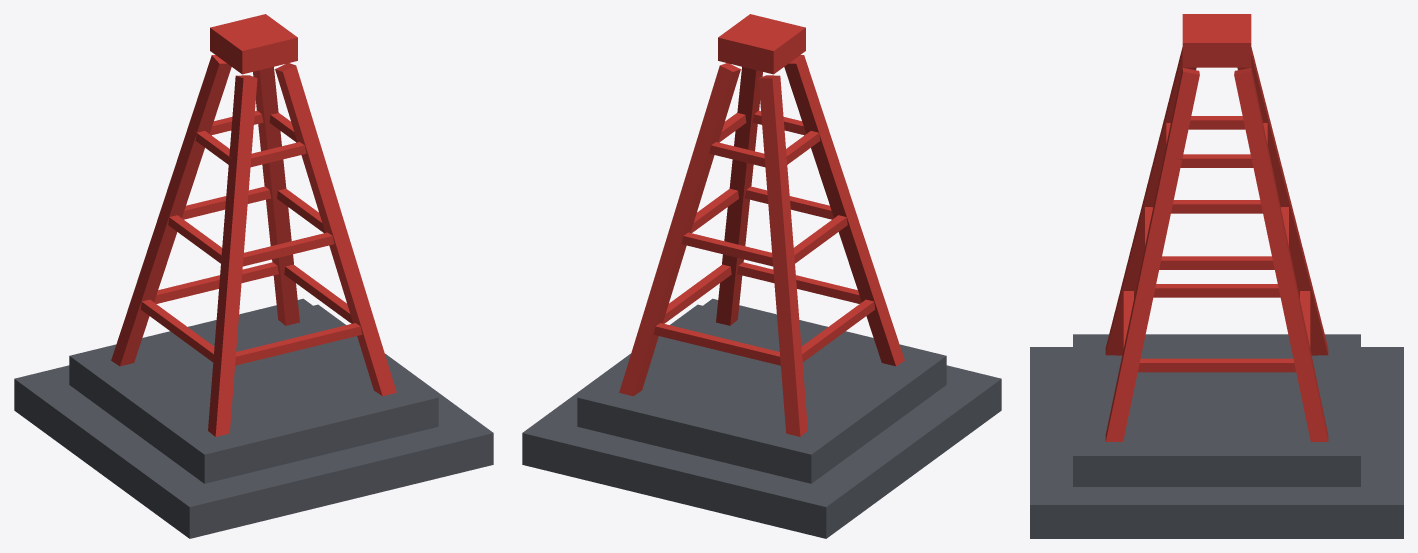
File: derrick.glb
The picture shows the model from 3 angles, left to right: view 1: azimuth 30°, elevation 25°; view 2: azimuth 150°, elevation 25°; view 3: azimuth 270°, elevation 25°; orthographic projection. The views are drawn at different scales.
Parts seen in each view (by area): view 1: derrick; view 2: derrick; view 3: derrick.
Part boxes in pixels (bbox=[...]): derrick: bbox=[14, 14, 493, 538]; derrick: bbox=[522, 14, 1001, 538]; derrick: bbox=[1030, 14, 1403, 538].
Size of the model in its own units: 0.3 by 0.382 by 0.3.
